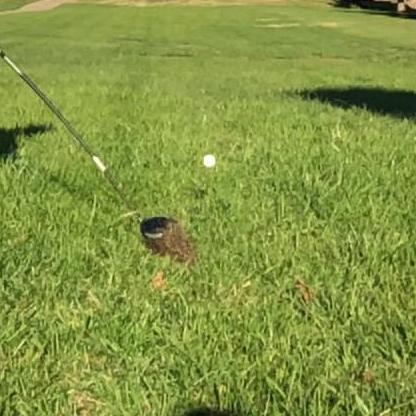golfball: (201, 151, 215, 166)
